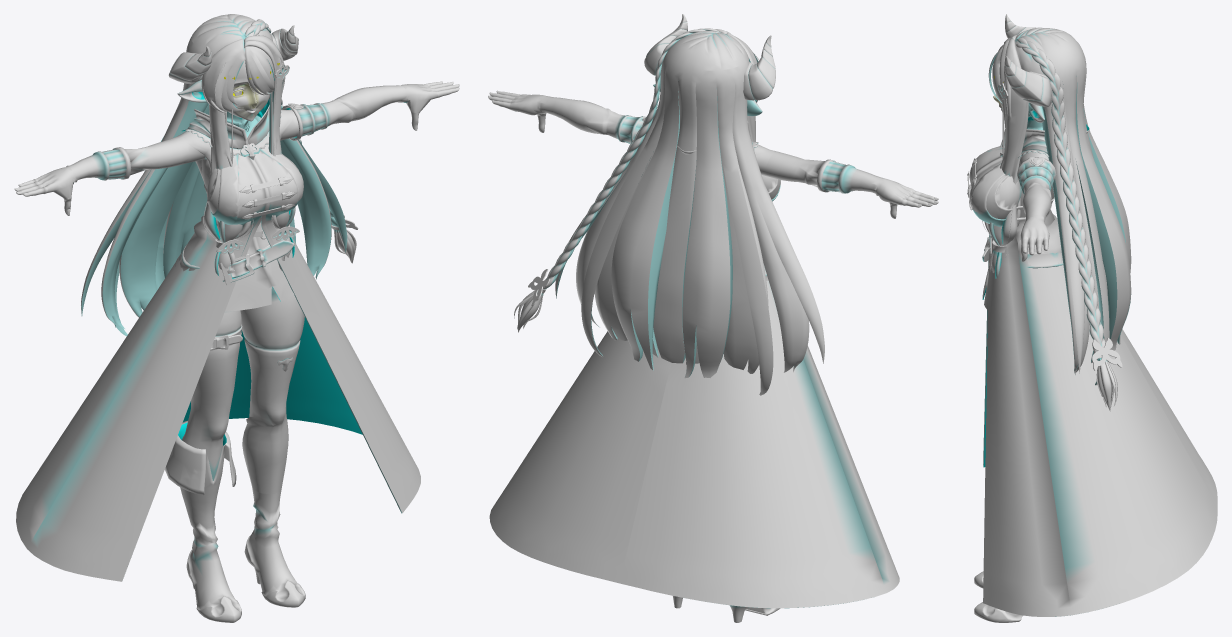
File: NRM_Cha.fbx
The picture shows the model from 3 angles, left to right: view 1: azimuth 30°, elevation 25°; view 2: azimuth 150°, elevation 25°; view 3: azimuth 270°, elevation 25°; orthographic projection.
Parts seen in each view (by area): view 1: NRM_body.mo.002, NRM_head_high.mo; view 2: NRM_body.mo.002, NRM_head_high.mo; view 3: NRM_body.mo.002, NRM_head_high.mo.
Part boxes in pixels (x1,y1,x2,y2): NRM_body.mo.002: (14, 81, 459, 622); NRM_head_high.mo: (81, 14, 358, 336); NRM_body.mo.002: (488, 90, 938, 622); NRM_head_high.mo: (514, 14, 824, 395); NRM_body.mo.002: (967, 119, 1217, 622); NRM_head_high.mo: (982, 14, 1131, 411).
Bounding box in the file's own units: 116 × 143 × 57.23.
